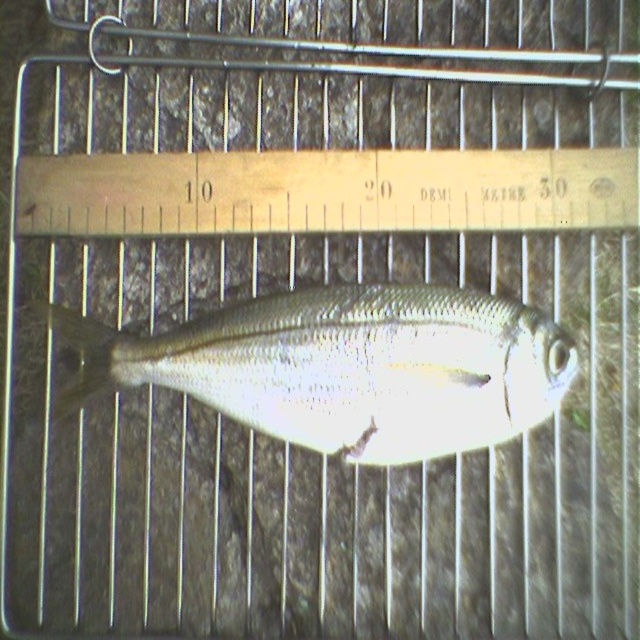Fish: (65, 269, 606, 484)
